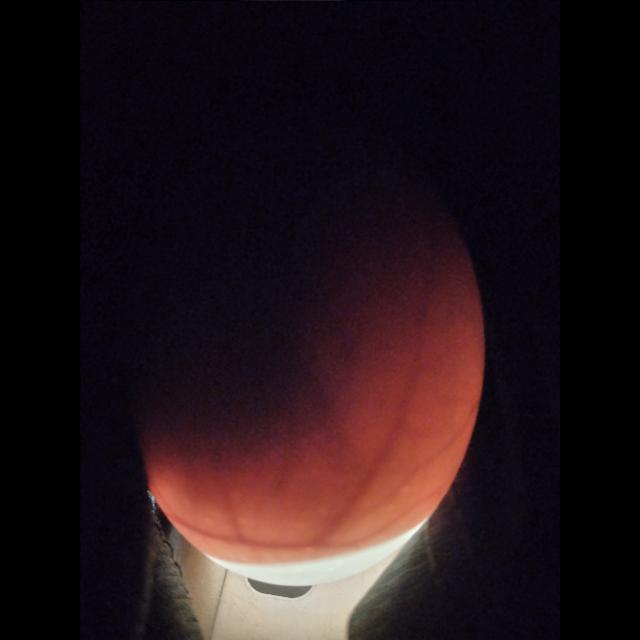Fertile: (130, 95, 490, 590)
